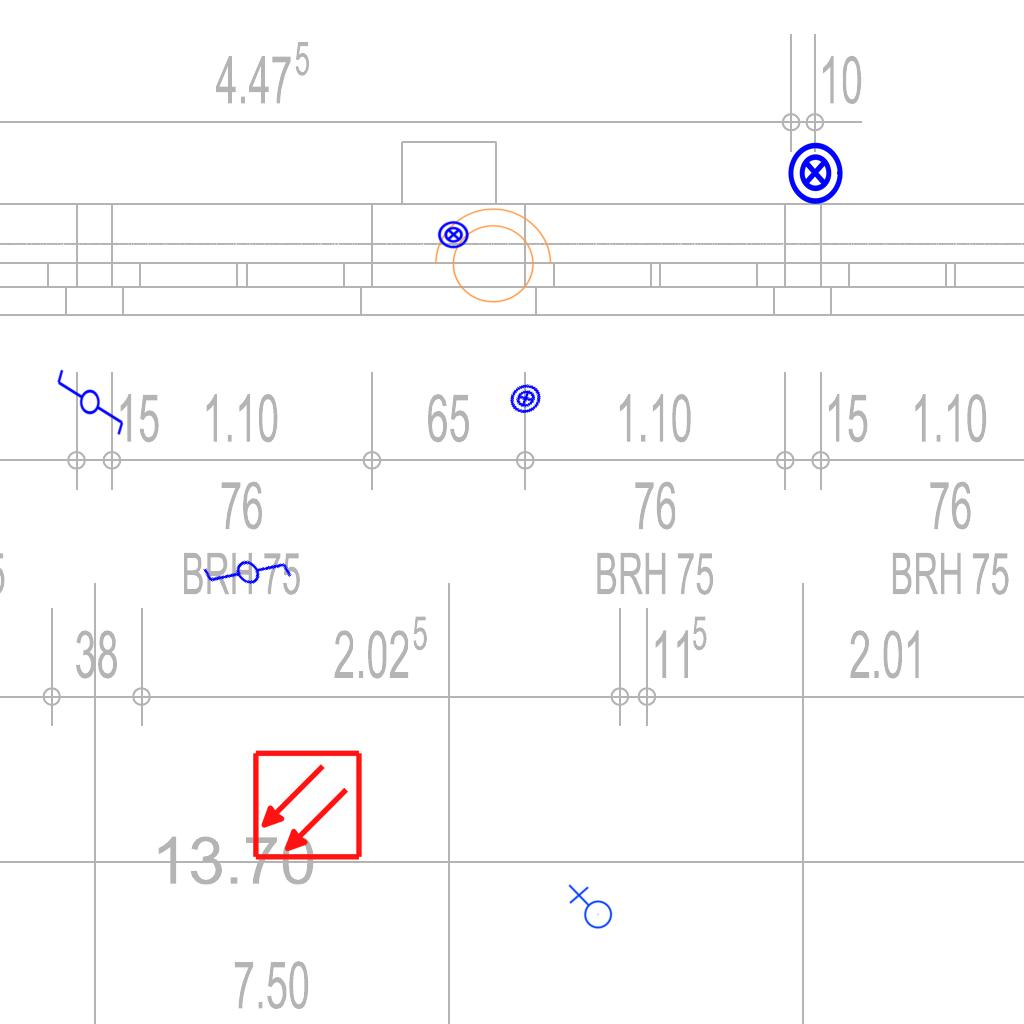Elektroanschluss_allgemein_230V_Geraeteanschlussdose_230V: (566, 884, 613, 933)
RMO_Rauchmelder_optischer: (251, 749, 364, 862)
Scheinwerfer_fuer_Alarmbeleuchtung: (424, 203, 556, 315)
Taster_beleuchtet: (782, 140, 848, 206), (503, 376, 548, 421), (437, 218, 470, 251)
Wechselschalter: (197, 522, 303, 630), (55, 359, 127, 437)
